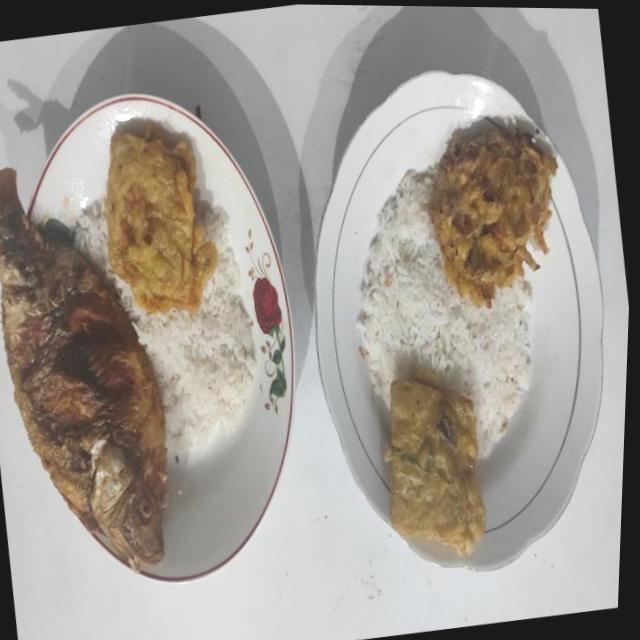ikan_mujair: (0, 168, 167, 571)
nasi_putih: (358, 166, 532, 454), (75, 199, 256, 456)
